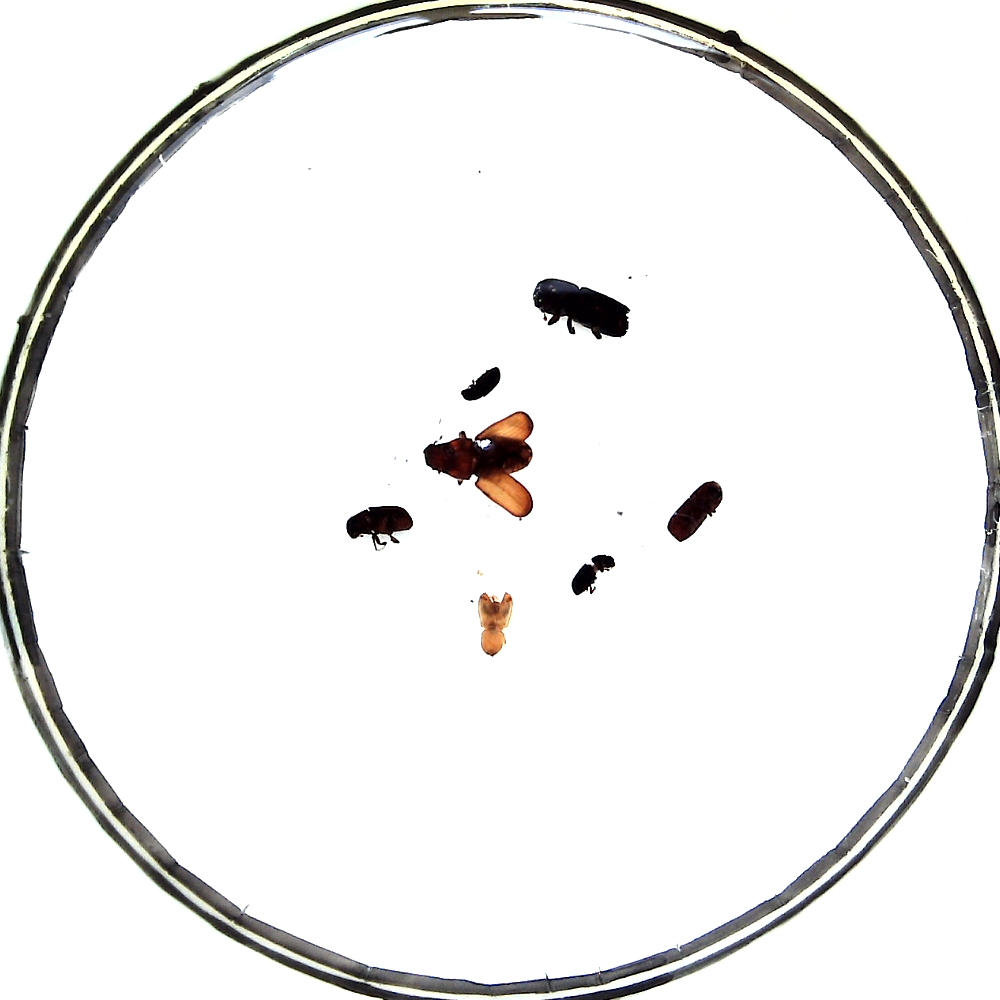Boerner: (533, 278, 630, 337)
Leconte: (423, 435, 532, 479)
acuminatus: (571, 554, 615, 594), (460, 367, 501, 401)
armandi: (346, 506, 413, 538)
coleoptera: (478, 592, 513, 657)
linnaeus: (668, 481, 723, 542)
